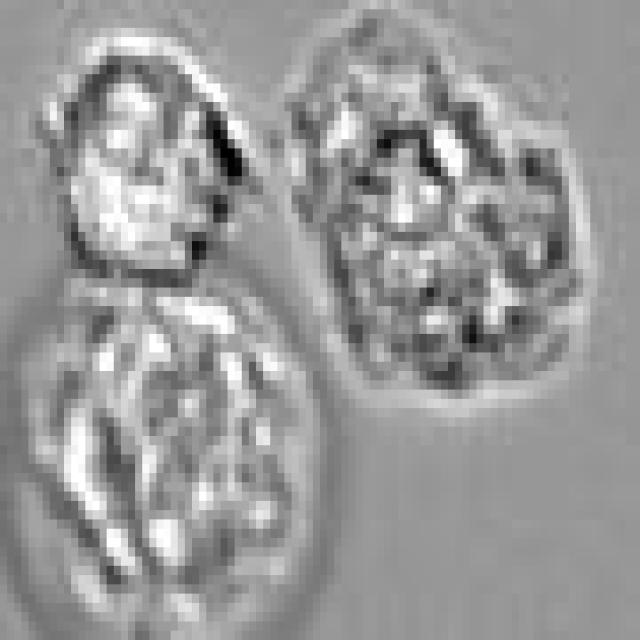Cancer Cell: (14, 250, 327, 640)
WBC: (284, 9, 598, 399), (57, 46, 242, 288)
